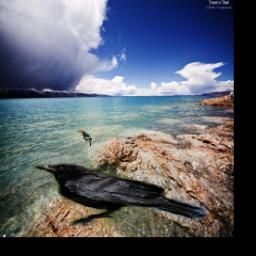Crow: (32, 162, 207, 226)
Woodpecker: (77, 129, 93, 146)
